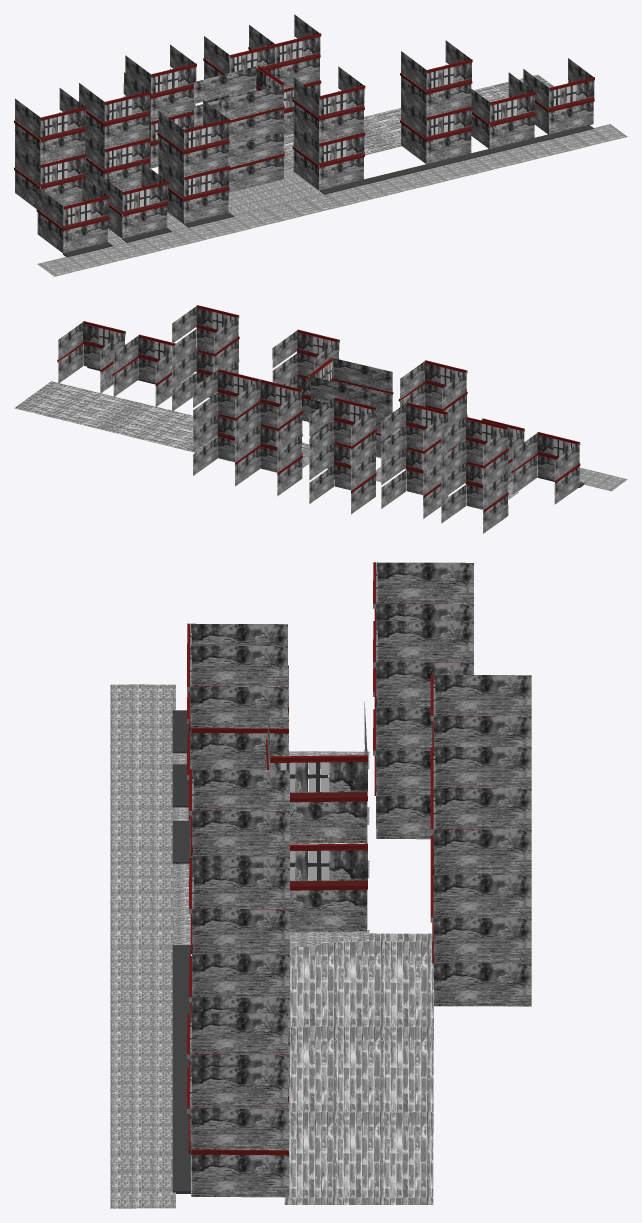
File: beco.fbx
3 renders of one model, top to bottom at view 1: azimuth 30°, elevation 25°; view 2: azimuth 150°, elevation 25°; view 3: azimuth 270°, elevation 25°, orthographic. The views are drawn at different scales.
Parts seen in each view (by area): view 1: Plane.195, Plane.207, Plane.269, Plane.199, Plane.162, Plane.176, Plane.114, Plane.243, Plane.048, Plane.005, Plane.139, Plane.032 (+57 smaller); view 2: Plane.269, Plane.195, Plane.089, Plane.085, Plane.243, Plane.032, Plane.114, Plane.176, Plane.260, Plane.180, Plane.162, Plane.226 (+35 smaller); view 3: Plane.269, Plane.114, Plane.230, Plane.226, Plane.260, Plane.048, Plane.162, Plane.139, Plane.158, Plane.222, Plane.143, Plane.110 (+29 smaller).
Part boxes in pixels (x1,y1,x2,y2): Plane.195: (221, 84, 283, 145); Plane.207: (228, 132, 283, 192); Plane.269: (284, 74, 566, 170); Plane.199: (194, 66, 283, 129); Plane.162: (104, 72, 149, 148); Plane.176: (40, 88, 85, 164); Plane.114: (426, 40, 471, 116); Plane.243: (489, 72, 534, 148); Plane.048: (183, 100, 228, 176); Plane.005: (122, 162, 167, 238); Plane.139: (319, 66, 363, 143); Plane.032: (63, 176, 107, 252); Plane.269: (14, 381, 309, 472); Plane.195: (333, 358, 392, 414); Plane.089: (235, 380, 302, 441); Plane.085: (235, 425, 302, 486); Plane.243: (113, 336, 156, 396); Plane.032: (512, 433, 579, 494); Plane.114: (172, 306, 238, 367); Plane.176: (441, 418, 508, 479); Plane.260: (58, 322, 100, 383); Plane.180: (441, 462, 508, 523); Plane.162: (381, 403, 448, 464); Plane.226: (193, 370, 235, 431); Plane.269: (284, 933, 433, 1204); Plane.114: (192, 909, 289, 997); Plane.230: (433, 918, 531, 1006); Plane.226: (433, 829, 531, 918); Plane.260: (190, 1108, 288, 1197); Plane.048: (190, 687, 287, 774); Plane.162: (376, 662, 473, 750); Plane.139: (192, 811, 289, 876); Plane.158: (376, 750, 432, 839); Plane.222: (434, 788, 531, 875); Plane.143: (192, 769, 289, 856); Plane.110: (192, 867, 289, 954).
Bounding box in the file's own units: 2540 × 406 × 864.
Materials: 236 (61 with a texture image).
